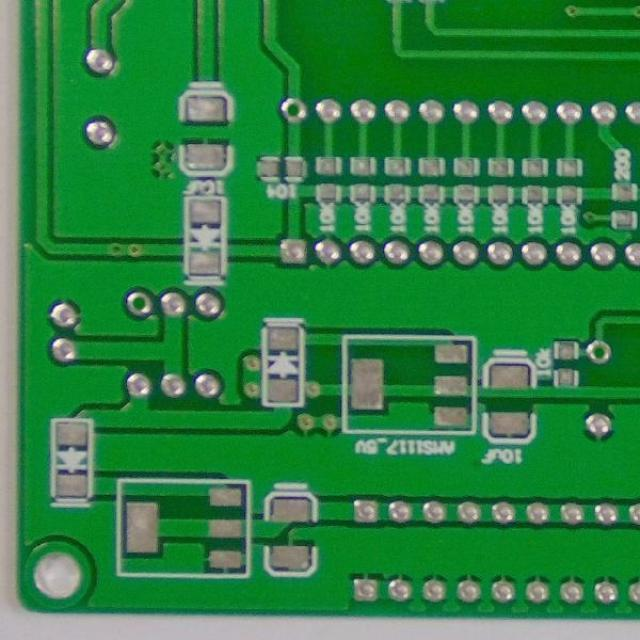Missing_Hole: (122, 288, 154, 319), (276, 96, 310, 125), (584, 339, 614, 366)
